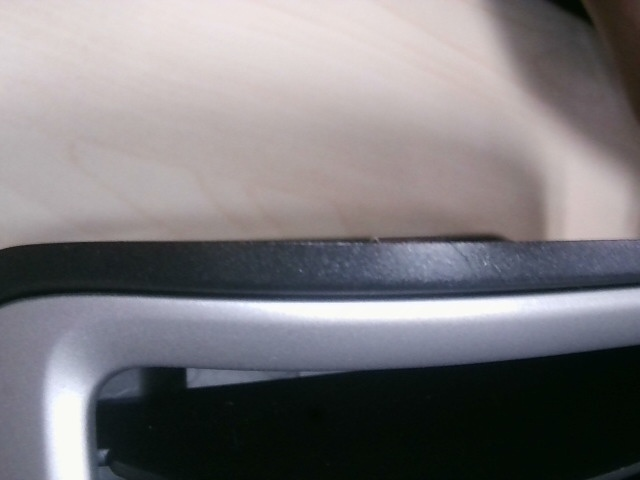NG: (443, 231, 473, 271)
